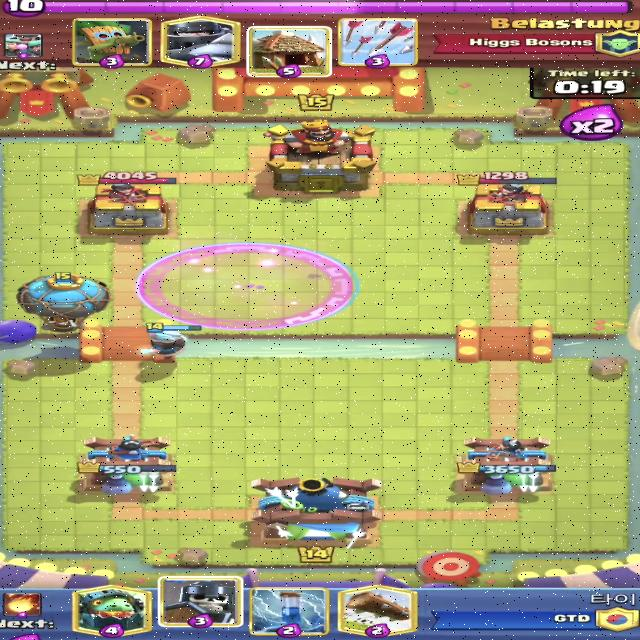Player-Balloon: (15, 272, 115, 332)
Player-IceWizard: (139, 322, 202, 360)
